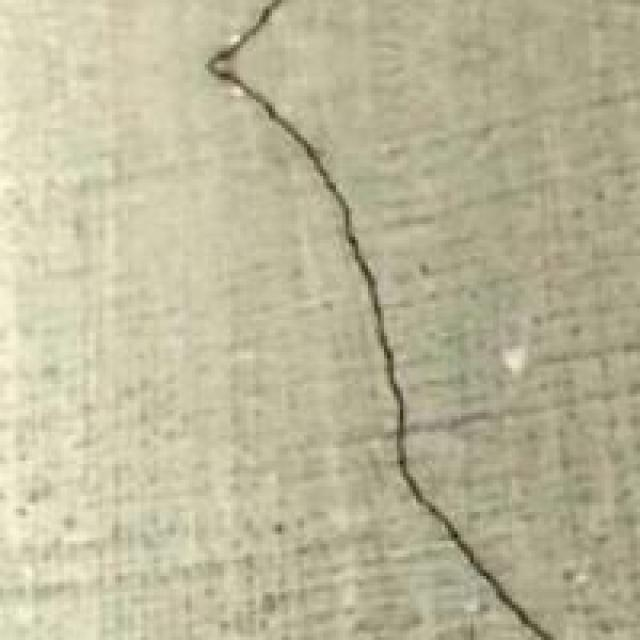Crack: (182, 3, 592, 637)
